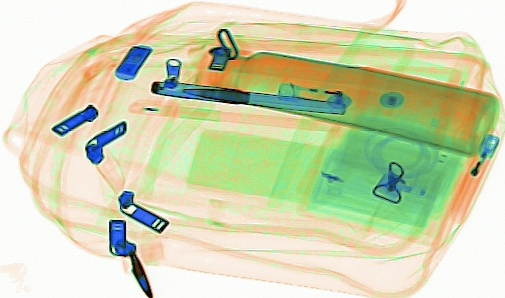lighter: (442, 132, 500, 224), (275, 78, 388, 116)
